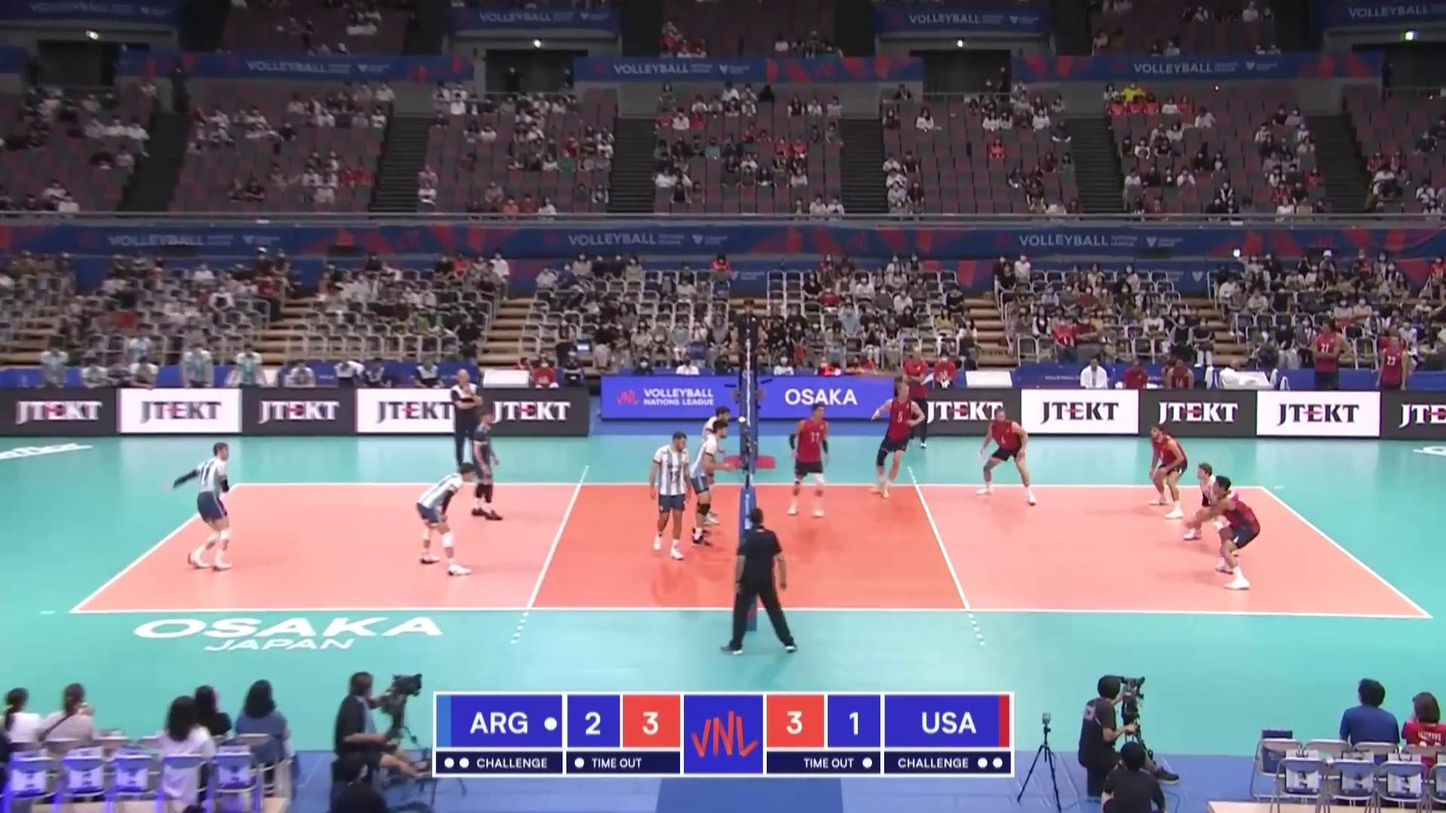player: (168, 444, 234, 568), (1202, 477, 1260, 592), (416, 462, 475, 573), (870, 382, 925, 499), (977, 409, 1036, 505), (786, 404, 831, 520), (652, 430, 689, 562), (1186, 460, 1245, 542), (691, 421, 729, 548), (1146, 420, 1188, 520), (698, 405, 732, 527), (471, 412, 500, 520)
refree: (729, 514, 806, 656), (735, 299, 764, 381)
